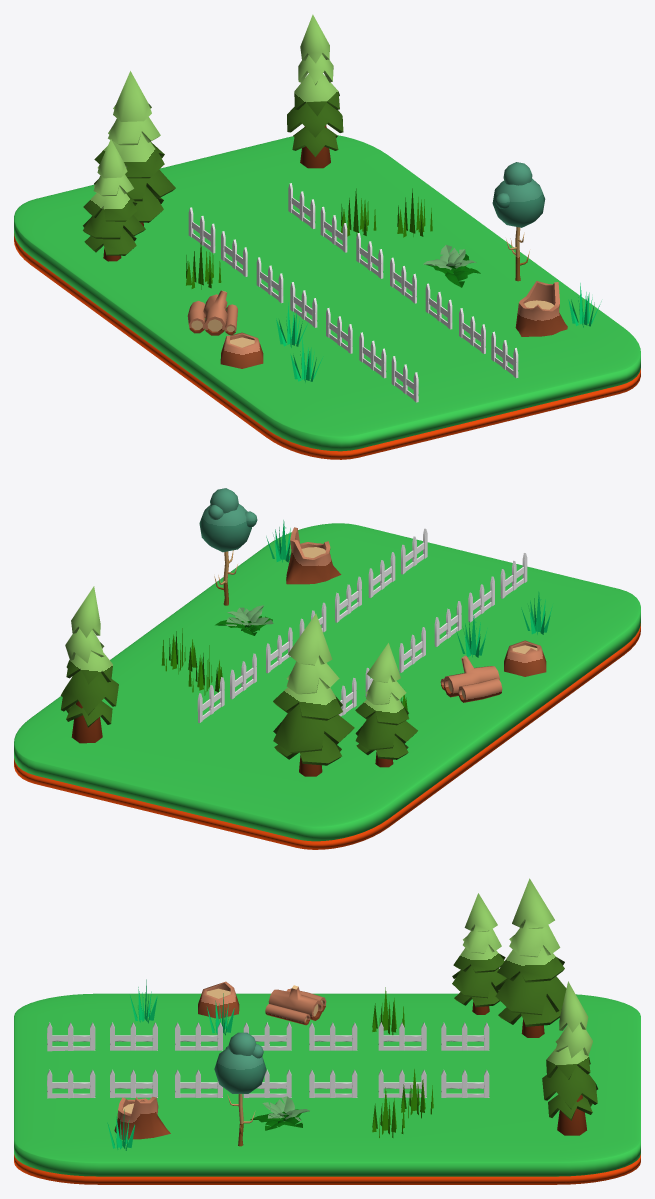
The model's file is forest_load_2.glb.
The picture shows the model from 3 angles, top to bottom: view 1: azimuth 30°, elevation 25°; view 2: azimuth 150°, elevation 25°; view 3: azimuth 270°, elevation 25°; orthographic projection. The views are drawn at different scales.
Parts seen in each view (by area): view 1: Cube, Cube.001, Tree.010, Tree.009, Tree.001, Tree.013, Stump.008, Stump.002, Stump.007, Grass.007, Grass.006, Grass.005 (+8 smaller); view 2: Cube, Tree.009, Cube.001, Tree.010, Tree.001, Tree.013, Stump.008, Stump.002, Stump.007, Grass.007, Grass.005, Grass.004 (+12 smaller); view 3: Cube, Tree.009, Cube.001, Tree.010, Tree.001, Tree.013, Stump.008, Stump.002, Stump.007, Grass.007, wooden sticks.013, wooden sticks (+17 smaller).
Boxes of the visible parts, x1=… form: Cube: x1=14, y1=135, x2=640, y2=451; Cube.001: x1=14, y1=233, x2=640, y2=459; Tree.010: x1=287, y1=14, x2=343, y2=168; Tree.009: x1=94, y1=71, x2=175, y2=226; Tree.001: x1=83, y1=139, x2=145, y2=261; Tree.013: x1=492, y1=162, x2=545, y2=281; Stump.008: x1=515, y1=281, x2=567, y2=336; Stump.002: x1=187, y1=290, x2=237, y2=335; Stump.007: x1=220, y1=332, x2=263, y2=368; Grass.007: x1=423, y1=245, x2=480, y2=287; Grass.006: x1=186, y1=241, x2=221, y2=289; Grass.005: x1=397, y1=188, x2=432, y2=237; Cube: x1=14, y1=523, x2=640, y2=841; Tree.009: x1=273, y1=613, x2=354, y2=776; Cube.001: x1=14, y1=623, x2=640, y2=849; Tree.010: x1=60, y1=586, x2=118, y2=743; Tree.001: x1=355, y1=643, x2=417, y2=767; Tree.013: x1=199, y1=488, x2=257, y2=605; Stump.008: x1=286, y1=527, x2=341, y2=584; Stump.002: x1=440, y1=655, x2=502, y2=702; Stump.007: x1=504, y1=640, x2=546, y2=676; Grass.007: x1=215, y1=605, x2=273, y2=635; Grass.005: x1=161, y1=628, x2=197, y2=674; Grass.004: x1=188, y1=645, x2=222, y2=695; Cube: x1=14, y1=993, x2=640, y2=1176; Tree.009: x1=495, y1=878, x2=566, y2=1037; Cube.001: x1=14, y1=1154, x2=640, y2=1184; Tree.010: x1=542, y1=981, x2=597, y2=1135; Tree.001: x1=452, y1=893, x2=506, y2=1014; Tree.013: x1=214, y1=1032, x2=266, y2=1146; Stump.008: x1=114, y1=1096, x2=170, y2=1139; Stump.002: x1=265, y1=985, x2=326, y2=1025; Stump.007: x1=198, y1=981, x2=239, y2=1018; Grass.007: x1=250, y1=1096, x2=309, y2=1130; wooden sticks.013: x1=47, y1=1069, x2=95, y2=1098; wooden sticks: x1=47, y1=1022, x2=95, y2=1051.
Size of the model in its own units: 20 by 9.88 by 31.28.
30 materials, 14 textured.
